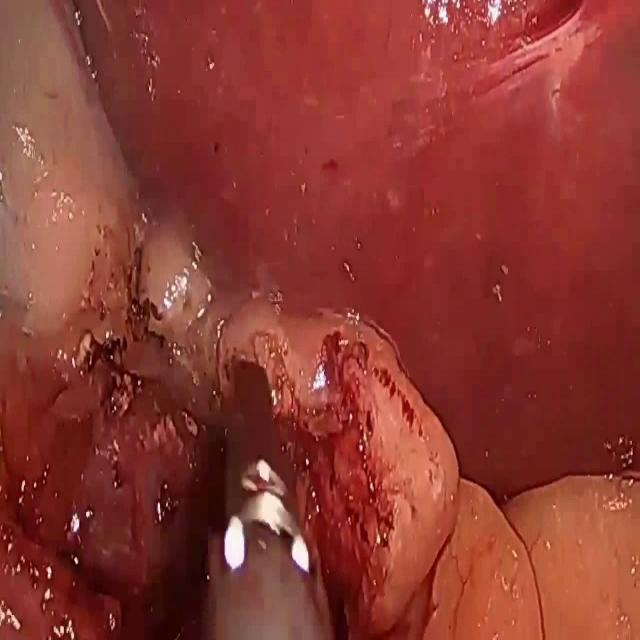surgical-tool: (192, 363, 336, 639)
